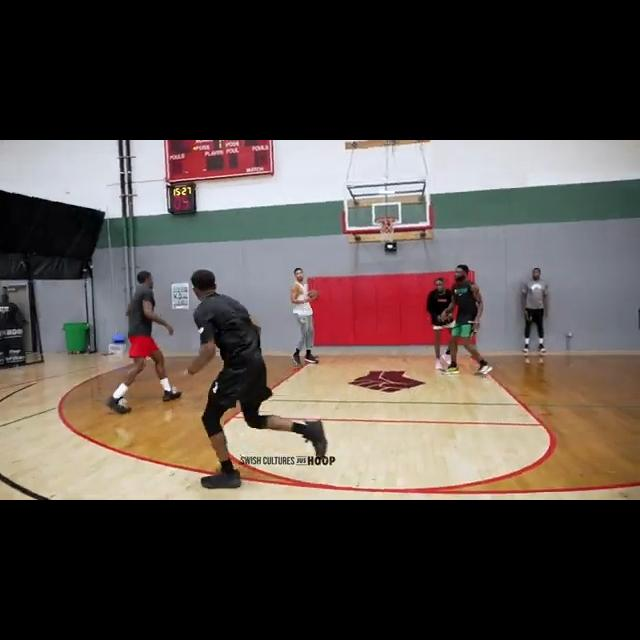basketball: (307, 288, 322, 301)
hoop: (377, 215, 398, 243)
person: (187, 268, 335, 488), (105, 268, 181, 418), (442, 258, 494, 375), (283, 254, 325, 369), (425, 272, 461, 369), (521, 267, 551, 353)
